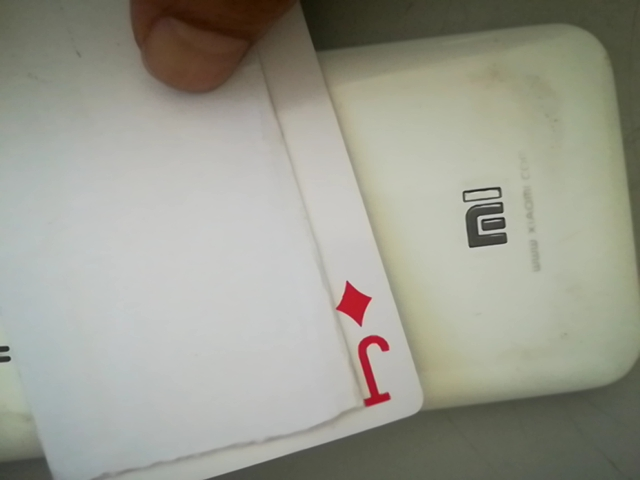fk j: (331, 274, 409, 417)
